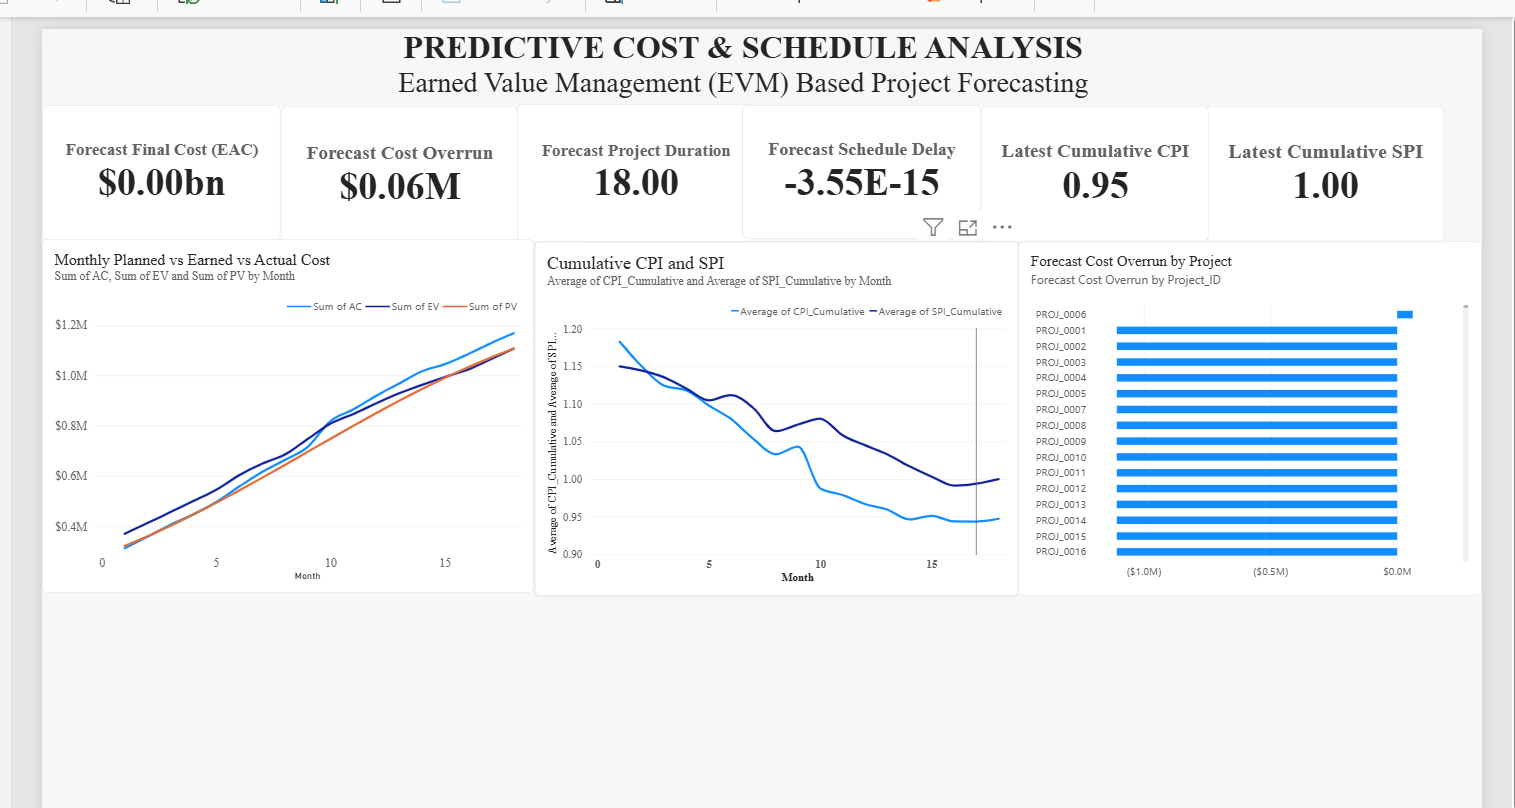

The page's visual inventory and layout, read from the dashboard file:
{"tool":"powerbi","page":{"name":"Predictive Cost & Schedule Analysis","canvas":[1920,1080],"ordinal":1},"visuals":[{"type":"textbox","box":[0,0,1870,102],"z":3},{"type":"cardVisual","fields":{"Data":["simulated_project_ev_metrics_fi.Forecast Final Cost (EAC)"]},"box":[0,102,318,180],"z":4},{"type":"cardVisual","fields":{"Data":["simulated_project_ev_metrics_fi.Latest Cumulative SPI"]},"box":[1552,104,318,180],"z":5},{"type":"cardVisual","fields":{"Data":["simulated_project_ev_metrics_fi.Forecast Cost Overrun"]},"box":[318,104,316,184],"z":6},{"type":"cardVisual","fields":{"Data":["simulated_project_ev_metrics_fi.Latest Cumulative CPI"]},"box":[1252,104,304,180],"z":7},{"type":"cardVisual","fields":{"Data":["simulated_project_ev_metrics_fi.Forecast Project Duration"]},"box":[634,100,316,184],"z":8},{"type":"cardVisual","fields":{"Data":["simulated_project_ev_metrics_fi.Forecast Schedule Delay"]},"box":[934,102,318,178],"z":9},{"type":"lineChart","title":"Monthly Planned vs Earned vs Actual Cost","fields":{"Category":["simulated_project_ev_metrics_fi.Month"],"Y":["Sum(simulated_project_ev_metrics_fi.AC)","Sum(simulated_project_ev_metrics_fi.EV)","Sum(simulated_project_ev_metrics_fi.PV)"]},"box":[0,280,656,472],"z":10},{"type":"lineChart","title":"Cumulative CPI and SPI","fields":{"Category":["simulated_project_ev_metrics_fi.Month"],"Y":["Avg(simulated_project_ev_metrics_fi.CPI_Cumulative)","Avg(simulated_project_ev_metrics_fi.SPI_Cumulative)"]},"box":[656,284,646,472],"z":11},{"type":"clusteredBarChart","title":"Forecast Cost Overrun by Project","fields":{"Category":["simulated_project_ev_metrics_fi.Project_ID"],"Y":["simulated_project_ev_metrics_fi.Forecast Cost Overrun"]},"box":[1302,284,618,472],"z":12}]}

Visuals, with their boxes on the page's 1920x1080 design canvas (x1, y1, x2, y2). These are canvas units, not pixel positions in the 1515x808 screenshot, which may show the page scaled, cropped or inside an application window:
textbox: 0,0,1870,102
cardVisual - simulated_project_ev_metrics_fi.Forecast Final Cost (EAC): 0,102,318,282
cardVisual - simulated_project_ev_metrics_fi.Latest Cumulative SPI: 1552,104,1870,284
cardVisual - simulated_project_ev_metrics_fi.Forecast Cost Overrun: 318,104,634,288
cardVisual - simulated_project_ev_metrics_fi.Latest Cumulative CPI: 1252,104,1556,284
cardVisual - simulated_project_ev_metrics_fi.Forecast Project Duration: 634,100,950,284
cardVisual - simulated_project_ev_metrics_fi.Forecast Schedule Delay: 934,102,1252,280
"Monthly Planned vs Earned vs Actual Cost" lineChart: 0,280,656,752
"Cumulative CPI and SPI" lineChart: 656,284,1302,756
"Forecast Cost Overrun by Project" clusteredBarChart: 1302,284,1920,756
